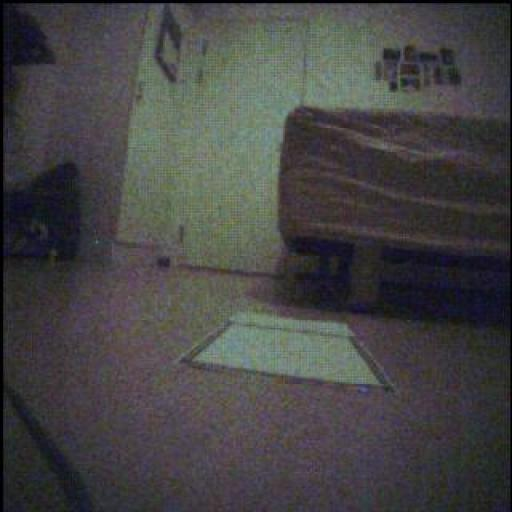pad: (182, 315, 395, 392)
